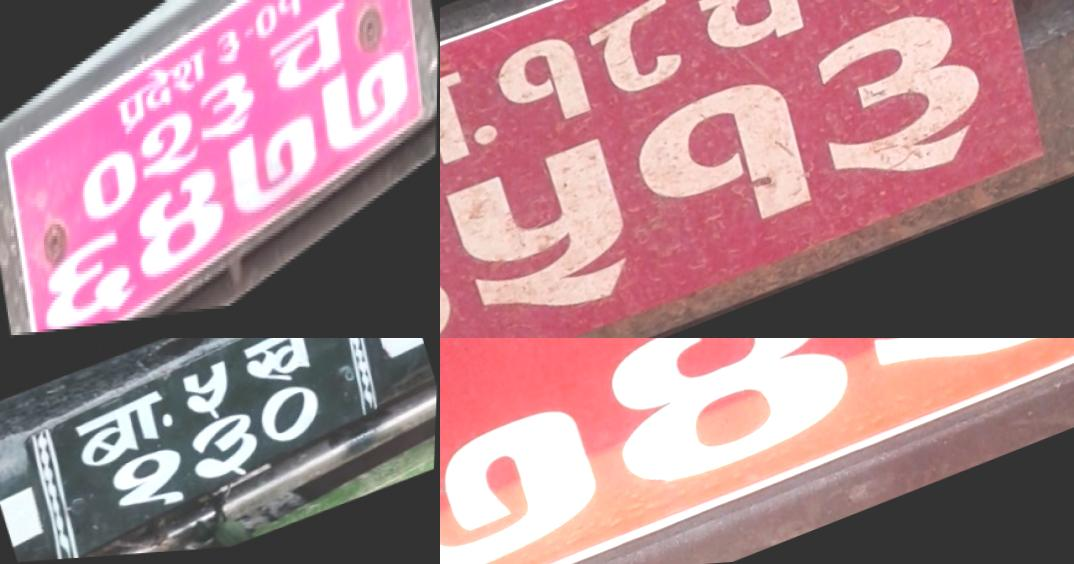0: (73, 130, 147, 242), (253, 379, 337, 459)
1: (617, 64, 834, 279), (480, 25, 605, 162), (104, 442, 198, 529)
2: (132, 91, 205, 210)
3: (786, 0, 1012, 228), (821, 338, 1074, 424), (191, 53, 265, 174), (183, 408, 273, 497)
4: (569, 338, 876, 524), (129, 147, 233, 306)
5: (440, 122, 661, 338), (172, 359, 247, 434)
6: (37, 206, 146, 334)
7: (440, 352, 633, 564), (221, 91, 326, 246), (314, 32, 418, 186)
8: (574, 0, 701, 122)
ba: (68, 389, 181, 476), (440, 54, 497, 219)
cha: (673, 0, 831, 85), (264, 0, 357, 123)
kha: (235, 338, 327, 402)
